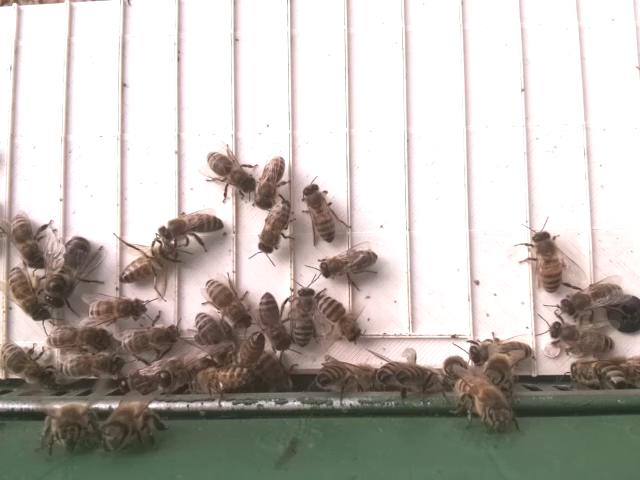Drone: (42, 234, 93, 311)
Worker: (546, 320, 617, 361), (202, 275, 253, 331), (526, 226, 567, 295), (158, 208, 224, 246), (114, 246, 178, 285), (561, 280, 625, 319), (202, 147, 255, 194), (299, 181, 339, 243), (314, 294, 364, 343), (8, 207, 45, 271), (5, 267, 46, 323), (117, 324, 182, 359), (257, 289, 291, 354), (256, 199, 293, 256), (466, 334, 534, 365), (251, 154, 287, 211), (318, 248, 380, 281), (56, 352, 124, 381), (289, 284, 319, 349), (46, 323, 115, 351), (85, 295, 147, 326)
